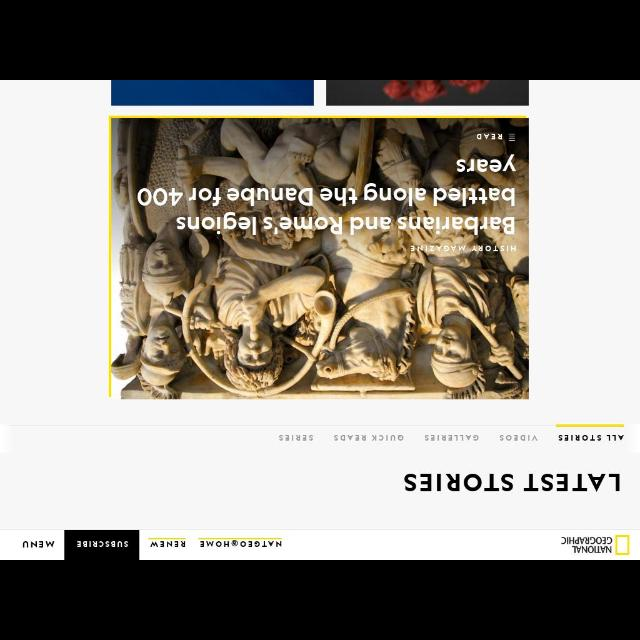image: (109, 115, 529, 399), (110, 80, 314, 106), (326, 80, 528, 106), (560, 534, 630, 556)
multitab: (270, 424, 626, 446)
text: (404, 473, 620, 491), (200, 540, 282, 548), (558, 434, 624, 442), (334, 435, 404, 441), (425, 435, 479, 441), (500, 434, 538, 442), (78, 541, 128, 547), (22, 540, 54, 548), (150, 541, 186, 547), (279, 435, 313, 441)
textbutton: (64, 530, 140, 560), (1, 530, 64, 560)
toolbar: (1, 530, 640, 560)
